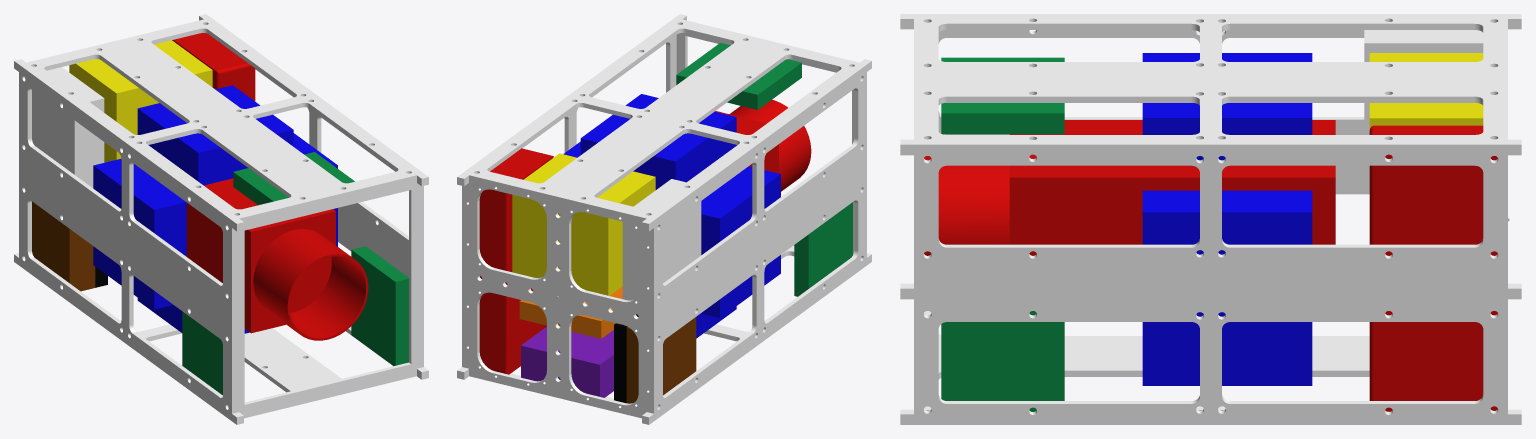
The model's file is oceaneye-interior.glb.
3 views of the same model, side by side, from view 1: azimuth 30°, elevation 25°; view 2: azimuth 150°, elevation 25°; view 3: azimuth 270°, elevation 25° (orthographic). The views are drawn at different scales.
Parts seen in each view (by area): view 1: empty_18, empty_17, empty_15, empty_13, empty_12, empty_9, empty_2, empty_7, empty_4, empty_16, empty_10, empty_8 (+2 smaller); view 2: empty_18, empty_7, empty_16, empty_13, empty_12, empty_2, empty_6, empty_10, empty_4, empty_8, empty_17, empty_5 (+3 smaller); view 3: empty_18, empty_16, empty_15, empty_14, empty_9, empty_12, empty_17, empty_11, empty_8, empty_7, empty_2.
Boxes of the visible parts, x1,y1,x2,y2 form: empty_18: (14,14,428,424); empty_17: (253,229,368,340); empty_15: (186,178,335,333); empty_13: (93,159,186,309); empty_12: (137,85,293,185); empty_9: (351,246,408,365); empty_2: (32,67,104,187); empty_7: (69,40,212,162); empty_4: (32,201,95,291); empty_16: (172,33,255,101); empty_10: (182,311,222,395); empty_8: (233,152,354,205); empty_18: (457,14,871,424); empty_7: (512,153,655,295); empty_16: (479,148,553,374); empty_13: (701,166,780,318); empty_12: (580,94,736,189); empty_2: (622,179,701,300); empty_6: (521,327,613,397); empty_10: (794,202,852,296); empty_4: (626,317,696,403); empty_8: (676,42,801,109); empty_17: (729,99,811,191); empty_5: (519,286,622,338); empty_18: (900,14,1521,424); empty_16: (1369,125,1497,411); empty_15: (1009,120,1335,255); empty_14: (1142,190,1312,351); empty_9: (941,311,1064,411); empty_12: (1142,53,1312,160); empty_17: (924,156,1009,255); empty_11: (1142,351,1312,385); empty_8: (941,57,1064,134); empty_7: (1369,53,1483,129); empty_2: (1364,30,1483,134).
Size of the model in its own units: 226 by 226 by 454.
